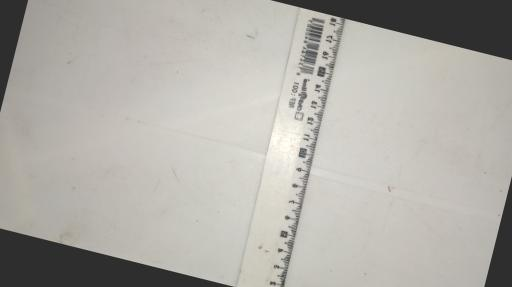Ruler: (227, 6, 352, 287)
